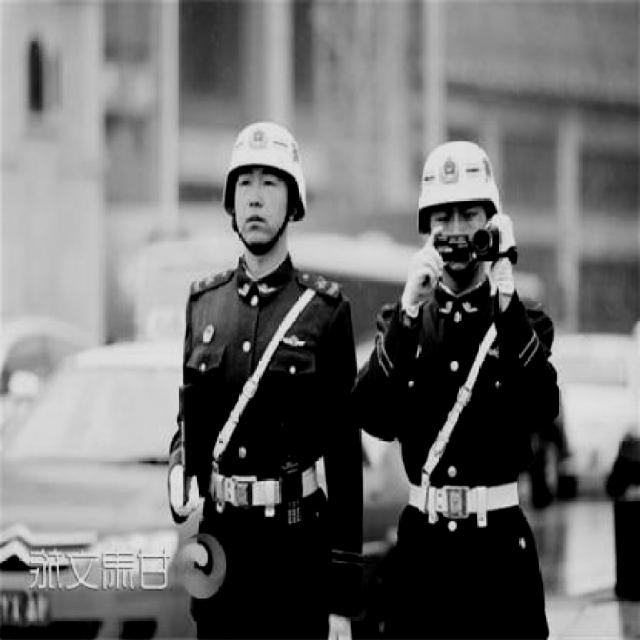face_nomask: (218, 171, 290, 257)
hand_glove: (403, 226, 446, 314), (488, 212, 517, 280), (166, 466, 202, 519), (328, 614, 355, 638)
head_helmet: (398, 134, 520, 217), (218, 117, 312, 186)
person: (151, 117, 371, 640), (357, 117, 568, 640)
